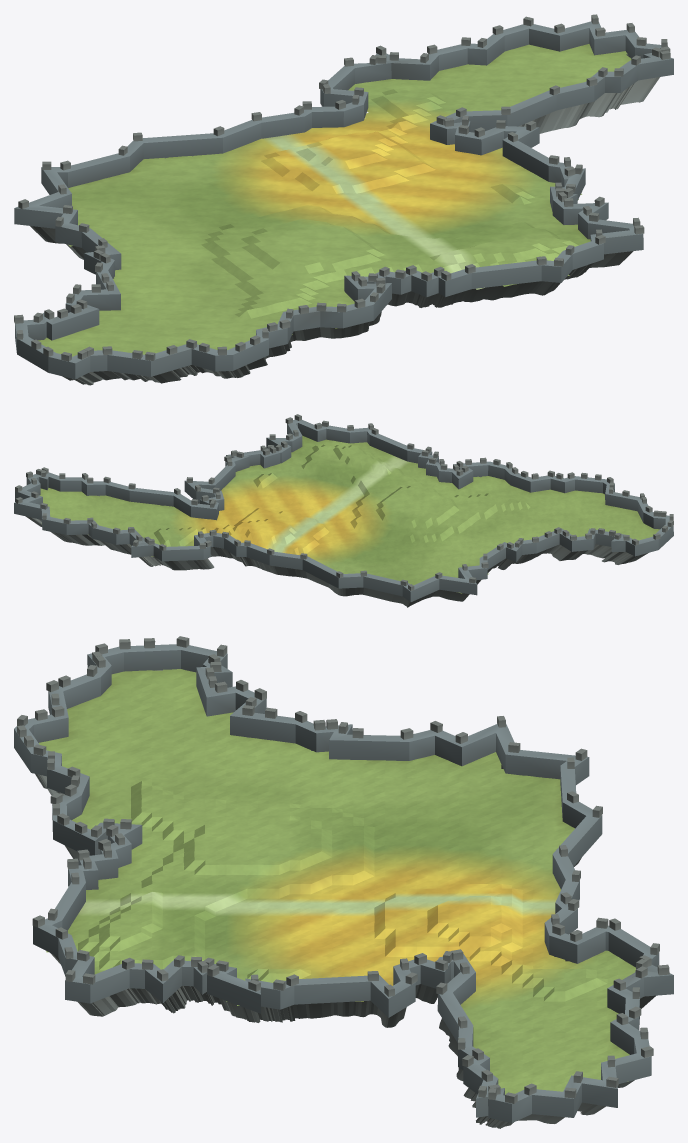
3 renders of one model, top to bottom at view 1: azimuth 30°, elevation 25°; view 2: azimuth 150°, elevation 25°; view 3: azimuth 270°, elevation 25°, orthographic. The views are drawn at different scales.
Visible parts, largest first — view 1: ground_2b0a4041; view 2: ground_2b0a4041; view 3: ground_2b0a4041.
Part boxes in pixels (x1,y1,x2,y2): ground_2b0a4041: [14, 14, 673, 385]; ground_2b0a4041: [14, 414, 673, 607]; ground_2b0a4041: [14, 636, 673, 1128].
Bounding box in the file's own units: 155 × 7.71 × 93.52.
2 materials, 1 textured.
